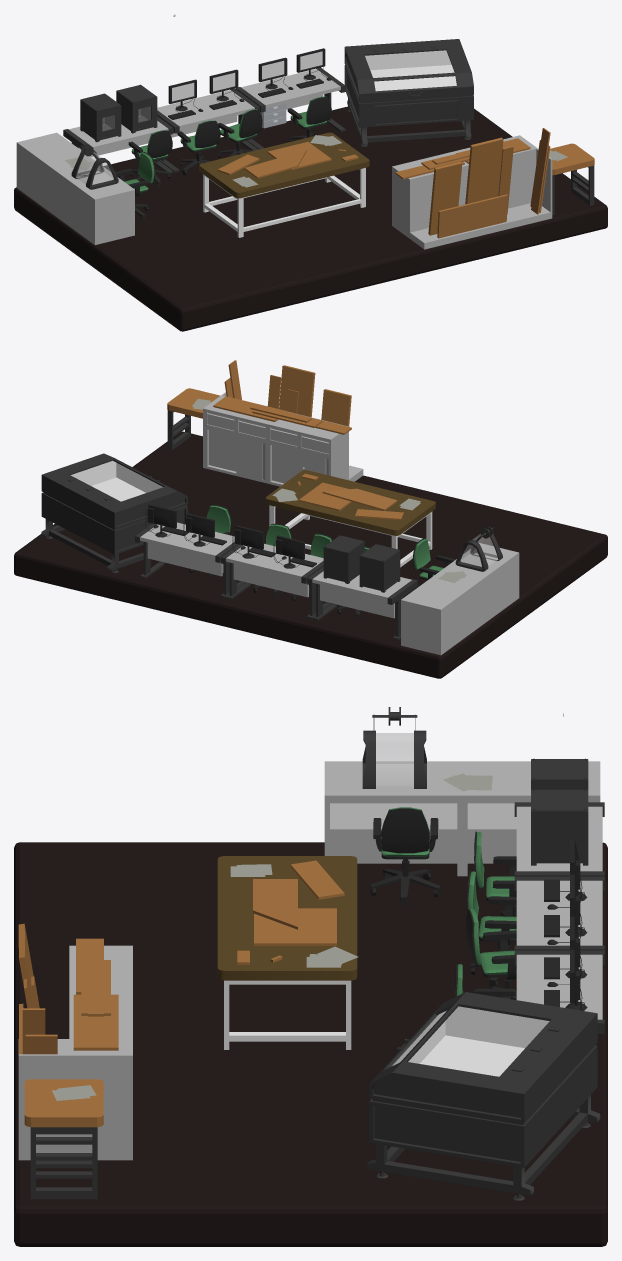
The model's file is Impressão.fbx.
The picture shows the model from 3 angles, top to bottom: view 1: azimuth 30°, elevation 25°; view 2: azimuth 150°, elevation 25°; view 3: azimuth 270°, elevation 25°; orthographic projection. The views are drawn at different scales.
Parts seen in each view (by area): view 1: Chao Impressao, Cubo.068, Cubo.060, Cubo.062, Cubo.069, Cubo.061, Plano.026, Plano.015, Cubo.074, Cubo.071, Cubo.034, Cubo.033 (+20 smaller); view 2: Chao Impressao, Cubo.068, Cubo.069, Cubo.061, Cubo.060, Plano.026, Plano.015, Plano.008, Cubo.062, Cubo.064, Cubo.065, Cubo.033 (+13 smaller); view 3: Chao Impressao, Cubo.068, Cubo.060, Cubo.062, Cubo.033, Cubo.035, Cubo.061, Plano.015, Cubo.065, Cubo.066, Cubo.063, Plano.026 (+19 smaller).
Boxes of the visible parts, x1,y1,x2,y2 form: Chao Impressao: (14, 106, 607, 331); Cubo.068: (344, 39, 473, 146); Cubo.060: (199, 132, 369, 237); Cubo.062: (56, 161, 134, 244); Cubo.069: (392, 136, 536, 238); Cubo.061: (16, 132, 94, 216); Plano.026: (235, 67, 345, 149); Plano.015: (157, 88, 259, 172); Cubo.074: (437, 194, 507, 238); Cubo.071: (465, 137, 503, 204); Cubo.034: (410, 203, 550, 249); Cubo.033: (550, 143, 594, 214); Chao Impressao: (14, 431, 607, 678); Cubo.068: (41, 453, 187, 572); Cubo.069: (204, 396, 348, 486); Cubo.061: (401, 571, 479, 655); Cubo.060: (265, 470, 435, 567); Plano.026: (135, 522, 244, 598); Plano.015: (221, 543, 330, 619); Plano.008: (307, 566, 417, 640); Cubo.062: (440, 543, 519, 626); Cubo.064: (359, 544, 400, 592); Cubo.065: (323, 535, 364, 583); Cubo.033: (167, 388, 219, 450); Chao Impressao: (14, 842, 607, 1246); Cubo.068: (366, 992, 600, 1200); Cubo.060: (217, 856, 357, 1049); Cubo.062: (324, 761, 462, 876); Cubo.033: (24, 1079, 103, 1199); Cubo.035: (18, 1054, 132, 1160); Cubo.061: (462, 761, 600, 876); Plano.015: (514, 876, 604, 950); Cubo.065: (531, 789, 588, 865); Cubo.066: (370, 807, 440, 905); Cubo.063: (362, 707, 426, 788); Plano.026: (514, 950, 604, 1033).
Size of the model in its own units: 770 by 289 by 525.
